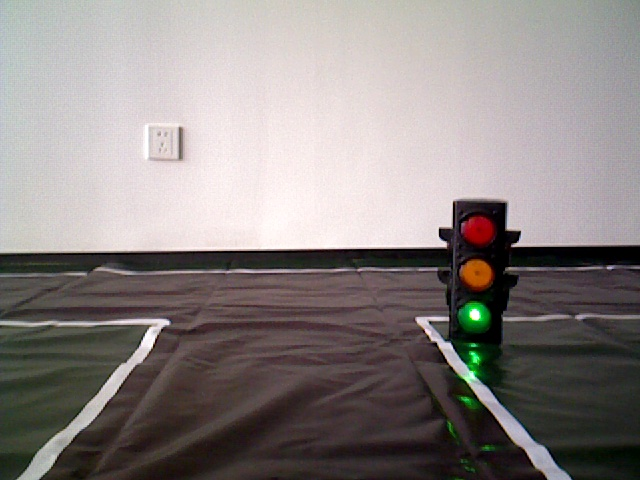green: (453, 207, 497, 334)
